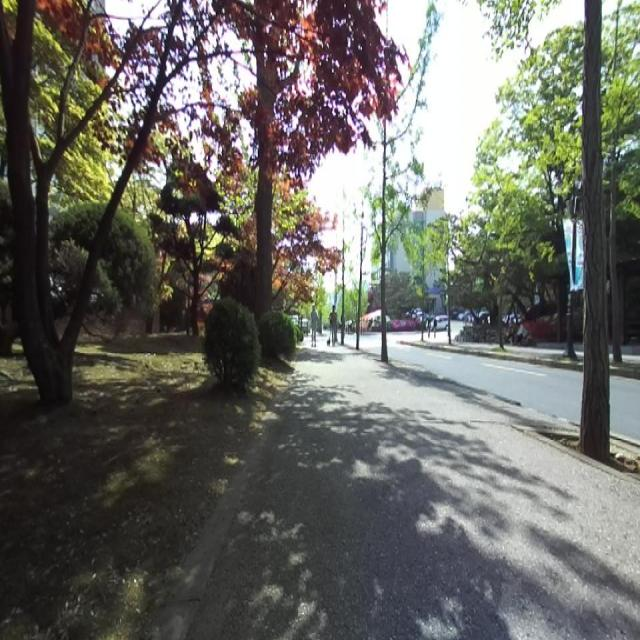sidewalk: (190, 346, 640, 639)
